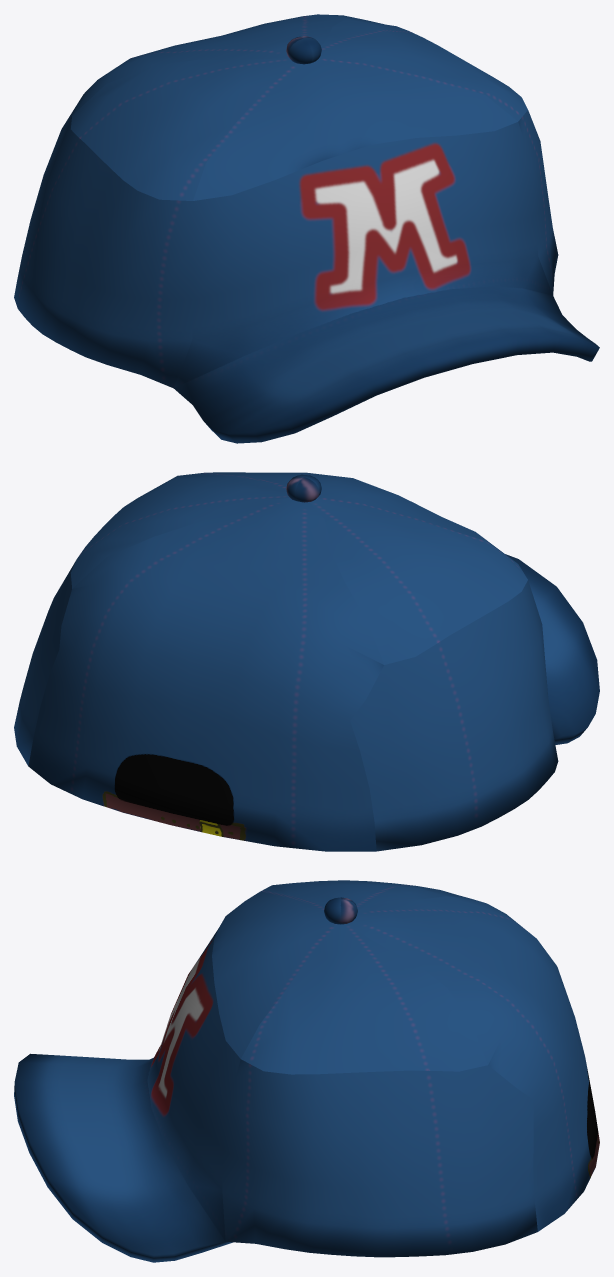
The model's file is Varsity_Cap.glb.
3 renders of one model, top to bottom at view 1: azimuth 30°, elevation 25°; view 2: azimuth 150°, elevation 25°; view 3: azimuth 270°, elevation 25°, orthographic. The views are drawn at different scales.
Visible parts, largest first — view 1: Varsity_Cap; view 2: Varsity_Cap; view 3: Varsity_Cap.
Boxes of the visible parts, x1,y1,x2,y2 form: Varsity_Cap: [14, 14, 599, 443]; Varsity_Cap: [14, 472, 599, 851]; Varsity_Cap: [14, 880, 599, 1262].
Size of the model in its own units: 1.04 by 0.5879 by 1.12.
1 material, 1 textured.
